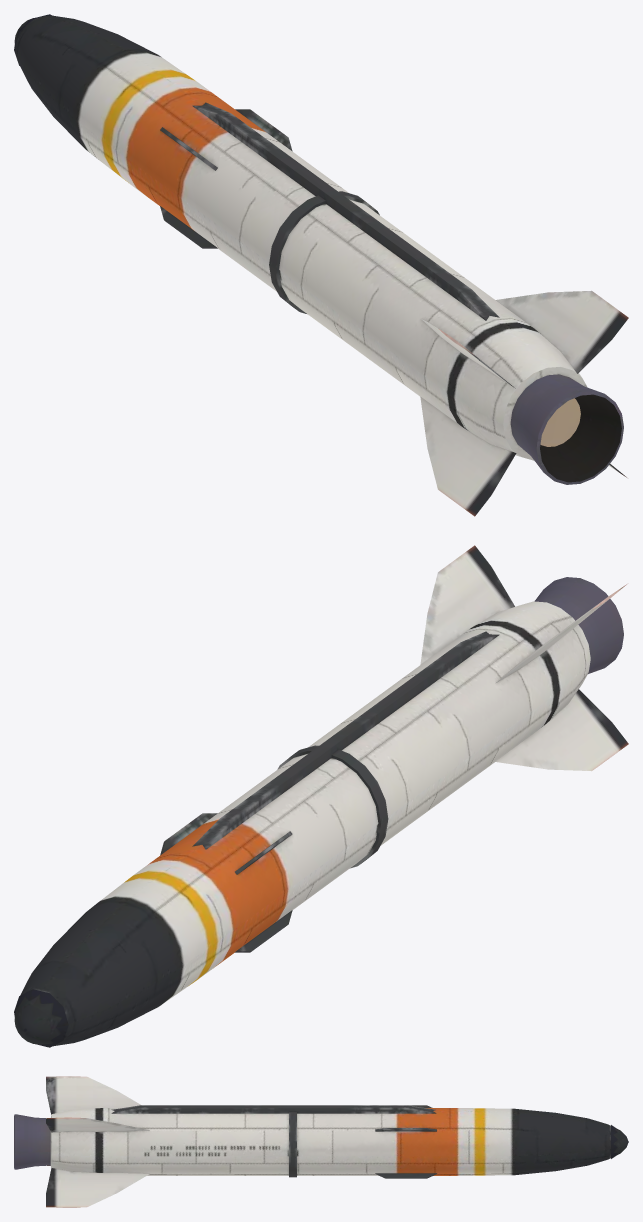
Rendered from torpedo.glb.
3 views of the same model, one above another, from view 1: azimuth 30°, elevation 25°; view 2: azimuth 150°, elevation 25°; view 3: azimuth 270°, elevation 25° (orthographic). The views are drawn at different scales.
Visible parts, largest first — view 1: hull; view 2: hull; view 3: hull.
Boxes of the visible parts, x1,y1,x2,y2 form: hull: (14, 14, 628, 516); hull: (14, 545, 628, 1047); hull: (14, 1076, 628, 1207).
Size of the model in its own units: 0.7298 by 0.7298 by 4.51.
Materials: 1 (1 with a texture image).
